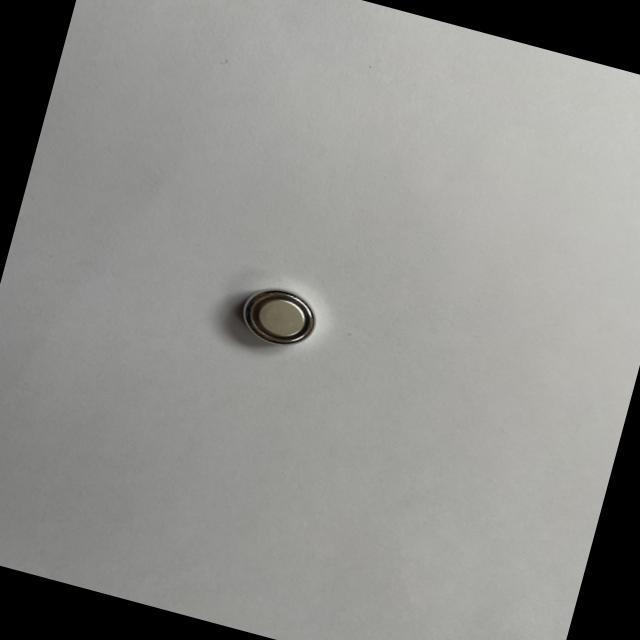COIN: (234, 280, 322, 354)
